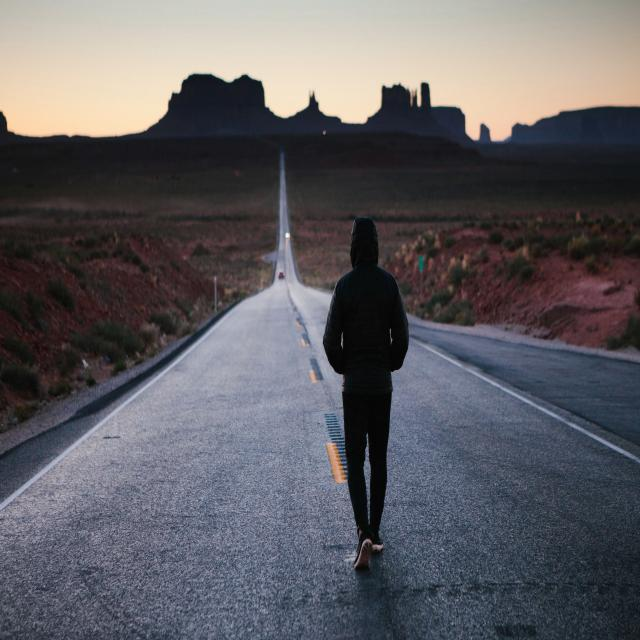adult: (323, 218, 411, 570)
